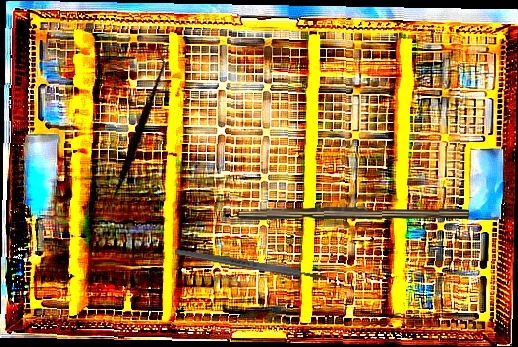Scalpel Handle: (174, 246, 327, 283), (236, 201, 470, 224)
Spatula Surgical: (74, 47, 198, 224)
